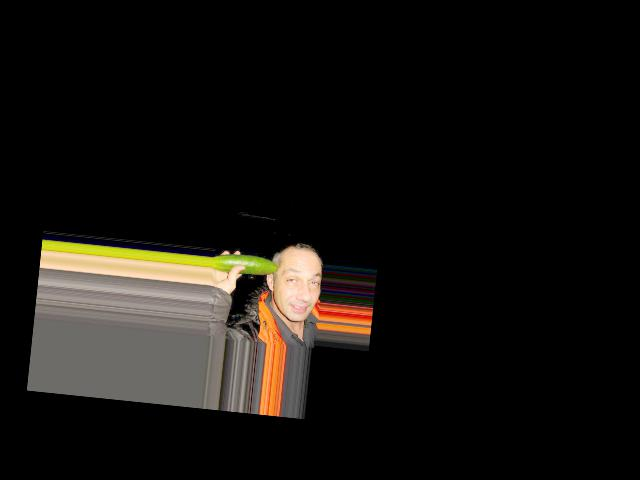cucumber: (212, 252, 279, 277)
